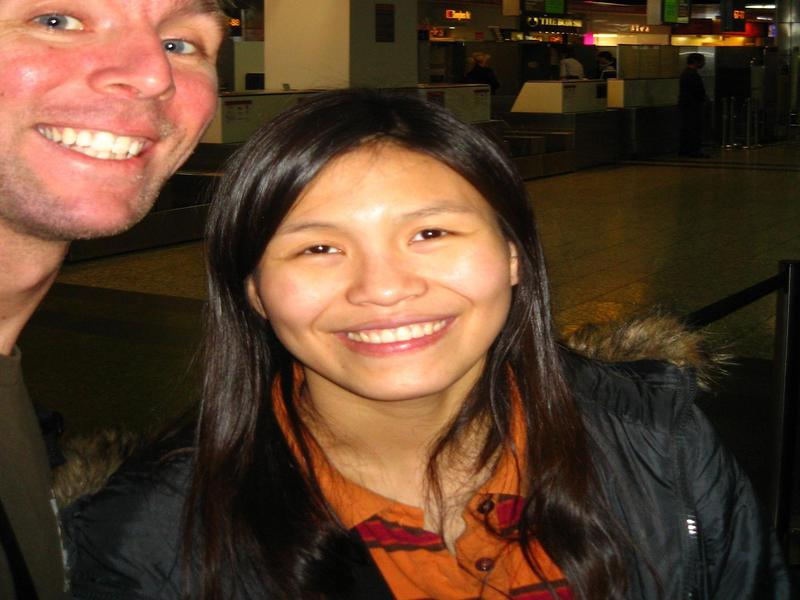person: (92, 85, 789, 600), (1, 1, 234, 594)
